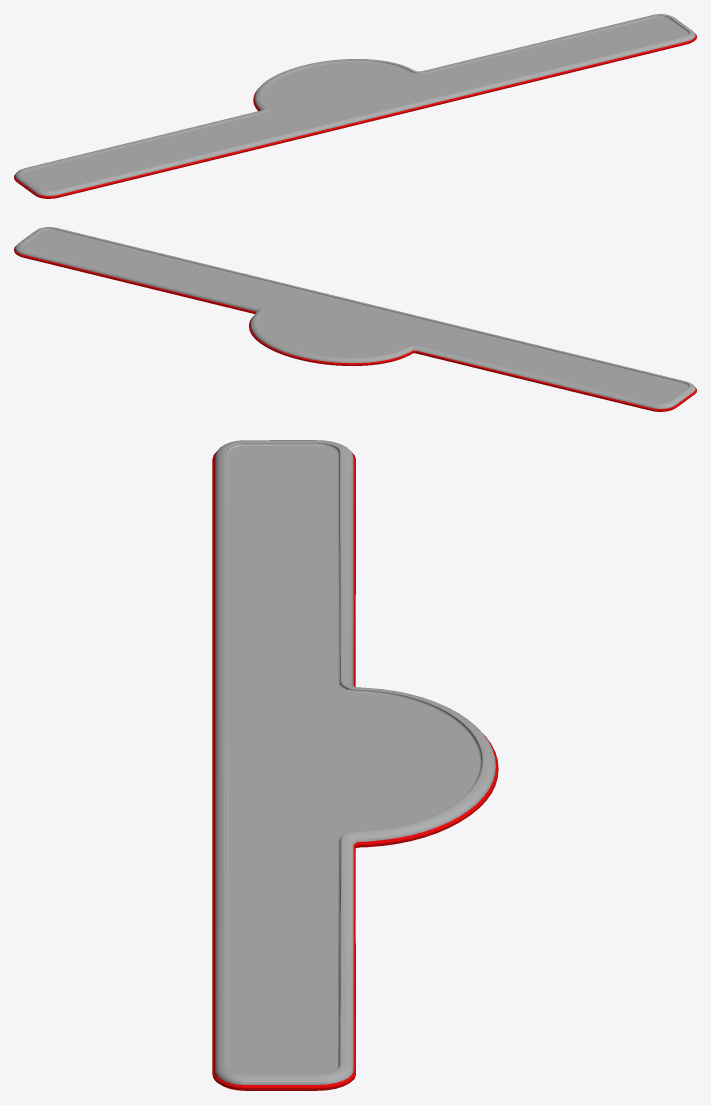
Rendered from PlayerDash.fbx.
3 views of the same model, one above another, from view 1: azimuth 30°, elevation 25°; view 2: azimuth 150°, elevation 25°; view 3: azimuth 270°, elevation 25° (orthographic). The views are drawn at different scales.
Visible parts, largest first — view 1: PlayerDash; view 2: PlayerDash; view 3: PlayerDash.
Part boxes in pixels (<box>): PlayerDash: <box>14,14,696,198</box>; PlayerDash: <box>14,227,696,411</box>; PlayerDash: <box>212,440,498,1090</box>.
Bounding box in the file's own units: 531 × 4.47 × 99.6.
